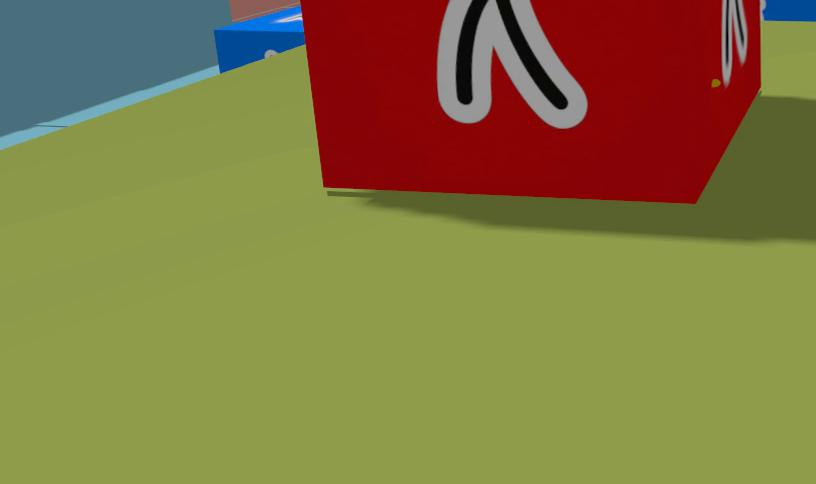KFS_FAKE: (298, 0, 764, 202), (437, 0, 586, 128), (721, 0, 747, 69), (723, 74, 729, 82), (729, 66, 731, 74), (728, 80, 729, 85)
KFS_REAL: (213, 5, 305, 74), (762, 0, 816, 21)
